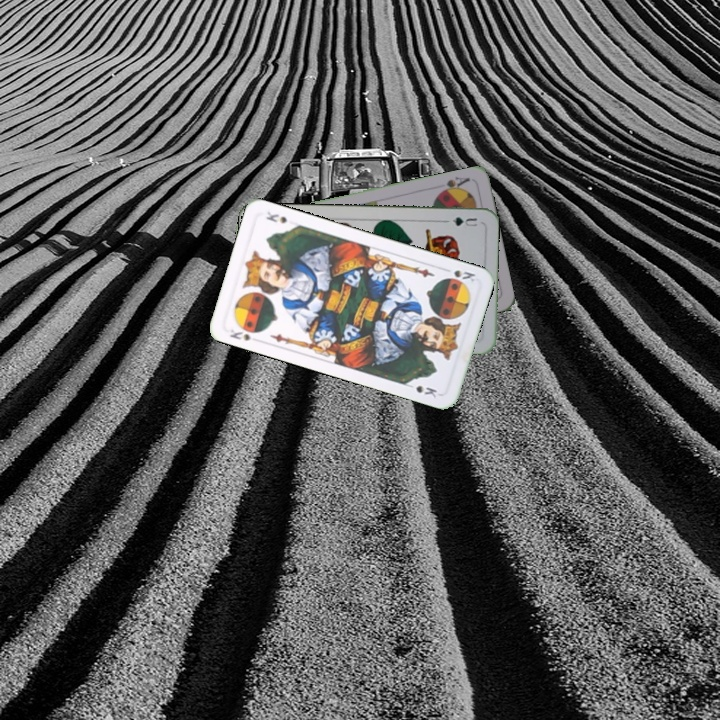GU: (442, 213, 480, 229)
SA: (435, 173, 472, 197)
SK: (226, 325, 253, 344), (450, 266, 478, 284)
